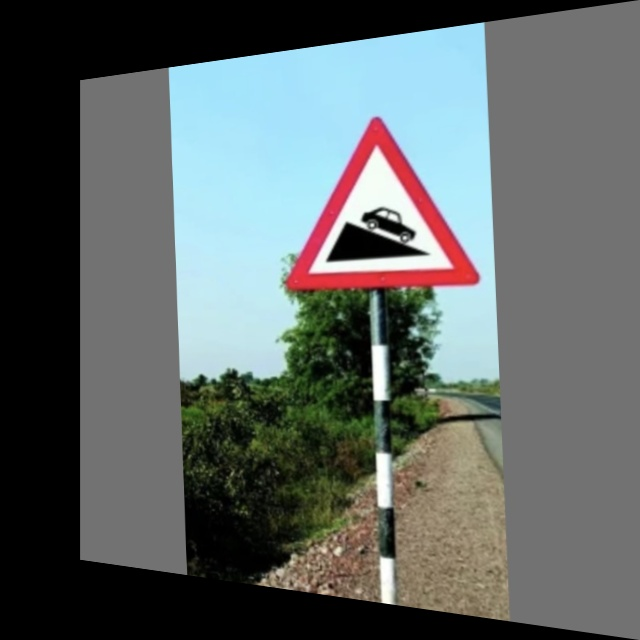Steep_Descent: (285, 103, 478, 300)
